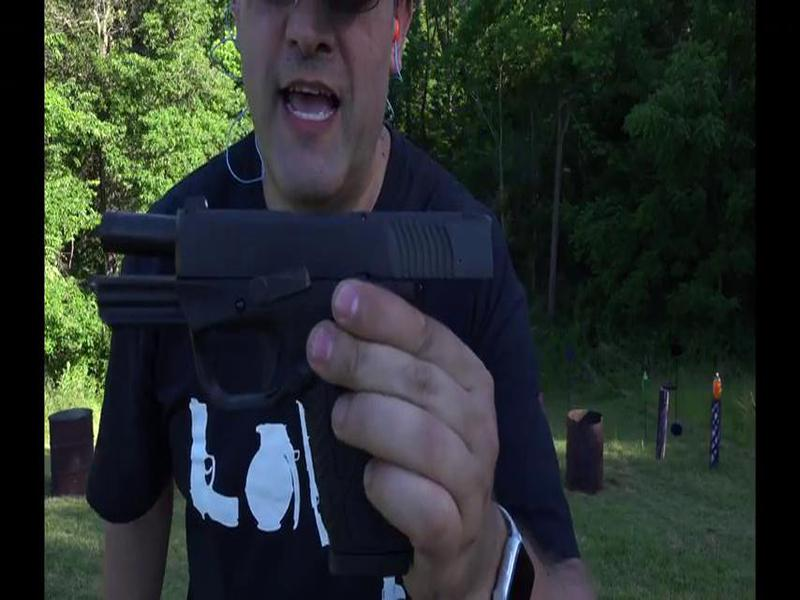Pistola: (83, 196, 508, 583)
